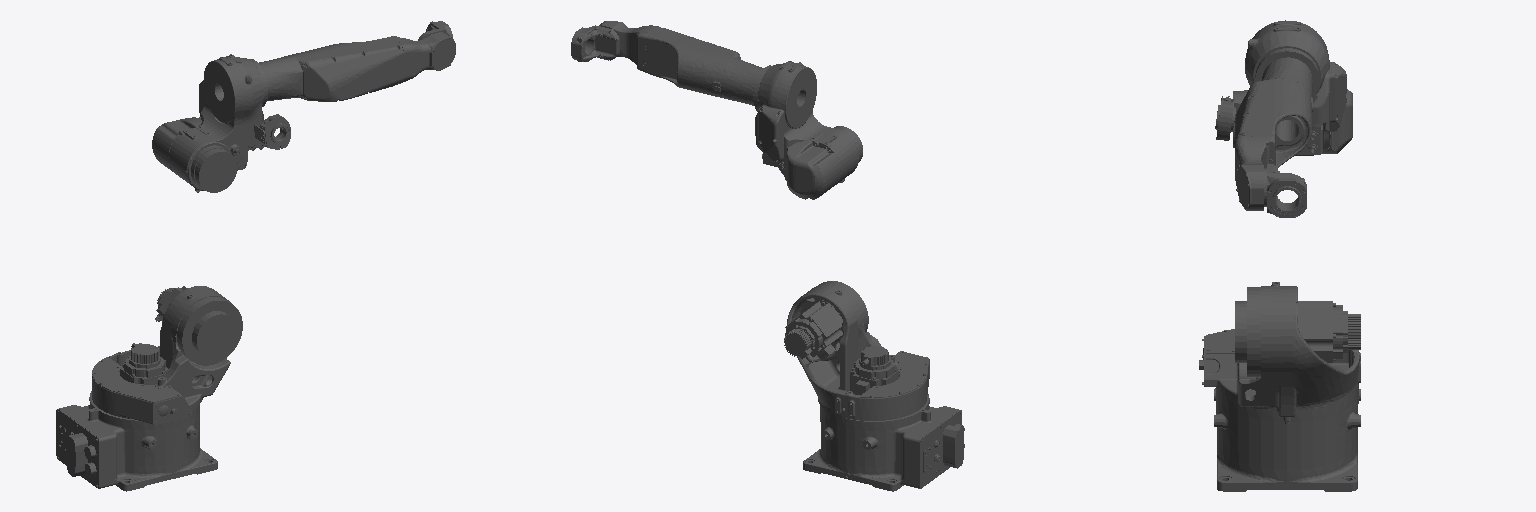
robot.urdf — er12h-1600:
<robot
  name="er12h-1600">

  <!-- 材料定义 -->
  <material name="gray">
    <color rgba="0.4 0.4 0.4 1" />
  </material>

  <!-- 基础连杆 -->
  <link name="base">
    <visual>
      <origin rpy="0 0 3.1415926"></origin>
      <geometry>
        <mesh filename="meshes/base_link.stl" />
      </geometry>
      <material name="gray" />
    </visual>
  </link>

  <!-- 连杆1 -->
  <link name="link1">
    <visual>
      <origin rpy="0 0 3.1415926"></origin>
      <geometry>
        <mesh filename="meshes/link_1.stl" />
      </geometry>
      <material name="gray" />
    </visual>
  </link>

  <!-- 关节1: base -> link1 -->
  <joint name="joint1" type="revolute">
    <parent link="base" />
    <child link="link1" />
    <origin xyz="0 0 0.437" rpy="0 0 0" />
    <axis xyz="0 0 1" />
    <limit lower="-2.96706" upper="2.96706" effort="1000" velocity="1000" />
  </joint>

  <!-- 连杆2 -->
  <link name="link2">
    <visual>
      <origin rpy="0 0 3.1415926"></origin>
      <geometry>
        <mesh filename="meshes/link_2.stl" />
      </geometry>
      <material name="gray" />
    </visual>
  </link>

  <!-- 关节2: link1 -> link2 -->
  <joint name="joint2" type="revolute">
    <parent link="link1" />
    <child link="link2" />
    <origin xyz="0.180 0 0" rpy="0 0 0" />
    <axis xyz="0 1 0" />
    <limit lower="-2.0944" upper="2.0944" effort="1000" velocity="1000" />
  </joint>

  <!-- 连杆3 -->
  <link name="link3">
    <visual>
      <origin rpy="0 0 3.1415926"></origin>
      <geometry>
        <mesh filename="meshes/link_3.stl" />
      </geometry>
      <material name="gray" />
    </visual>
  </link>

  <!-- 关节3: link2 -> link3 -->
  <joint name="joint3" type="revolute">
    <parent link="link2" />
    <child link="link3" />
    <origin xyz="0 0 0.570" rpy="0 0 0" />
    <axis xyz="0 1 0" />
    <limit lower="-3.05433" upper="3.05433" effort="1000" velocity="1000" />
  </joint>

  <!-- 连杆4 -->
  <link name="link4">
    <visual>
      <origin rpy="0 0 3.1415926"></origin>
      <geometry>
        <mesh filename="meshes/link_4.stl" />
      </geometry>
      <material name="gray" />
    </visual>
  </link>

  <!-- 关节4: link3 -> link4 -->
  <joint name="joint4" type="revolute">
    <parent link="link3" />
    <child link="link4" />
    <origin xyz="0.830 0 0.205" rpy="0 0 0" />
    <axis xyz="-1 0 0" />
    <limit lower="-2.0944" upper="2.0944" effort="1000" velocity="1000" />
  </joint>

  <!-- 连杆5 -->
  <link name="link5">
    <visual>
      <origin rpy="0 0 3.1415926"></origin>
      <geometry>
        <mesh filename="meshes/link_5.stl" />
      </geometry>
      <material name="gray" />
    </visual>
  </link>

  <!-- 关节5: link4 -> link5 -->
  <joint name="joint5" type="revolute">
    <parent link="link4" />
    <child link="link5" />
    <origin xyz="0 0 0" rpy="0 0 0" />
    <axis xyz="0 1 0" />
    <limit lower="-2.96706" upper="2.96706" effort="1000" velocity="1000" />
  </joint>

  <!-- 连杆6 -->
  <link name="link6">
    <visual>
      <origin rpy="0 0 3.1415926"></origin>
      <geometry>
        <mesh filename="meshes/link_6.stl" />
      </geometry>
      <material name="gray" />
    </visual>
  </link>

  <!-- 关节6: link5 -> link6 -->
  <joint name="joint6" type="revolute">
    <parent link="link5" />
    <child link="link6" />
    <origin xyz="0.075 0 0" rpy="0 0 0" />
    <axis xyz="-1 0 0" />
    <limit lower="-3.05433" upper="3.05433" effort="1000" velocity="1000" />
  </joint>

</robot>

--- What the picture shows (computed from the rendered views, not written in the file) ---
3 views of the same robot in one strip: view 1: azimuth 30°, elevation 25°; view 2: azimuth 150°, elevation 25°; view 3: azimuth 270°, elevation 25° (orthographic).
Model er12h-1600 with 7 links and 6 joints (6 revolute), rooted at base, posed every joint at zero.
Visible links, largest first — view 1: link1, base, link3, link4; view 2: base, link1, link3, link4, link5; view 3: link1, base, link4, link3, link5.
Link boxes in pixels (bbox=[...]): link1: bbox=[92, 286, 242, 424]; base: bbox=[56, 343, 217, 491]; link3: bbox=[152, 54, 290, 192]; link4: bbox=[259, 32, 455, 101]; base: bbox=[803, 346, 964, 491]; link1: bbox=[784, 281, 929, 420]; link3: bbox=[753, 61, 862, 199]; link4: bbox=[599, 21, 763, 105]; link5: bbox=[571, 25, 619, 61]; link1: bbox=[1199, 282, 1360, 423]; base: bbox=[1214, 385, 1360, 491]; link4: bbox=[1235, 57, 1312, 210]; link3: bbox=[1215, 20, 1352, 155]; link5: bbox=[1267, 164, 1306, 217].
Bounding box of the posed robot: 1.38 × 0.396 × 1.32 m (x, y, z).
Meshes: 7 distinct files referenced, 6 mesh visuals loaded (6 binary STL); not drawn: 1 (reference not matched to a file when rendering).
